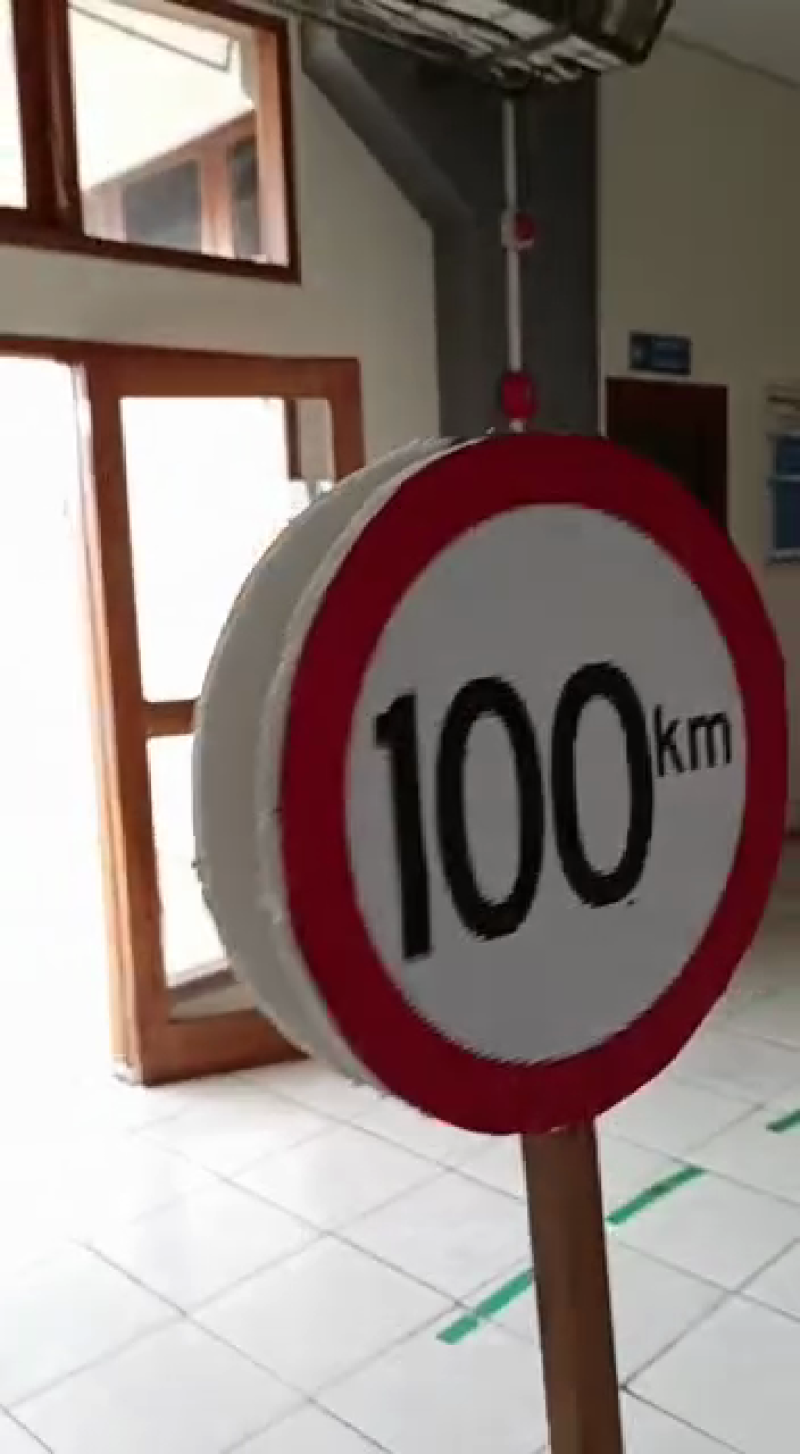batas maksimal 100kmperjam: (265, 432, 800, 1142)
